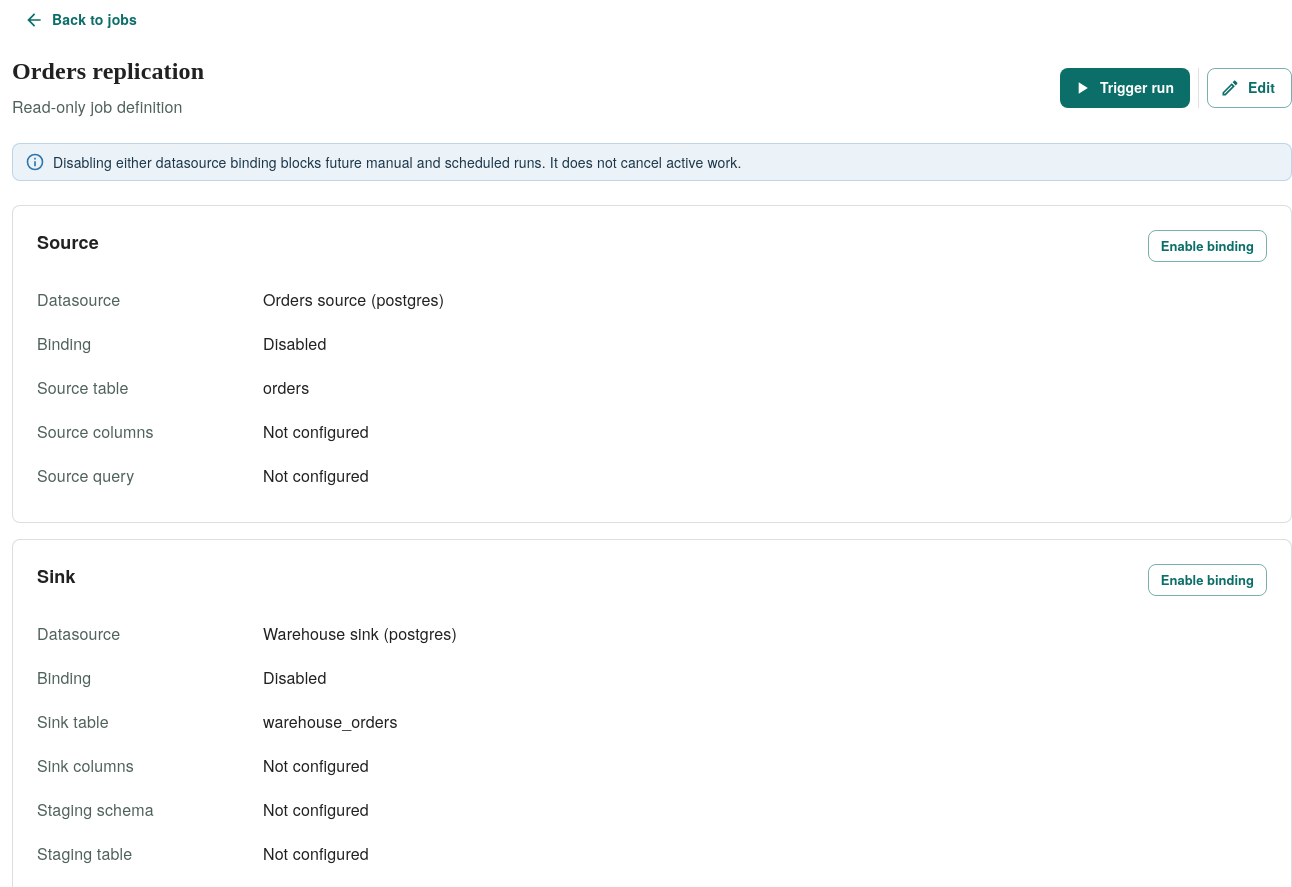
Test case: JobDetailPage › offers re-enable for disabled bindings and surfaces backend authorization errors
Step 1. Click the 1st button "Enable binding" → (1207, 246), box [1148, 230, 1267, 262]
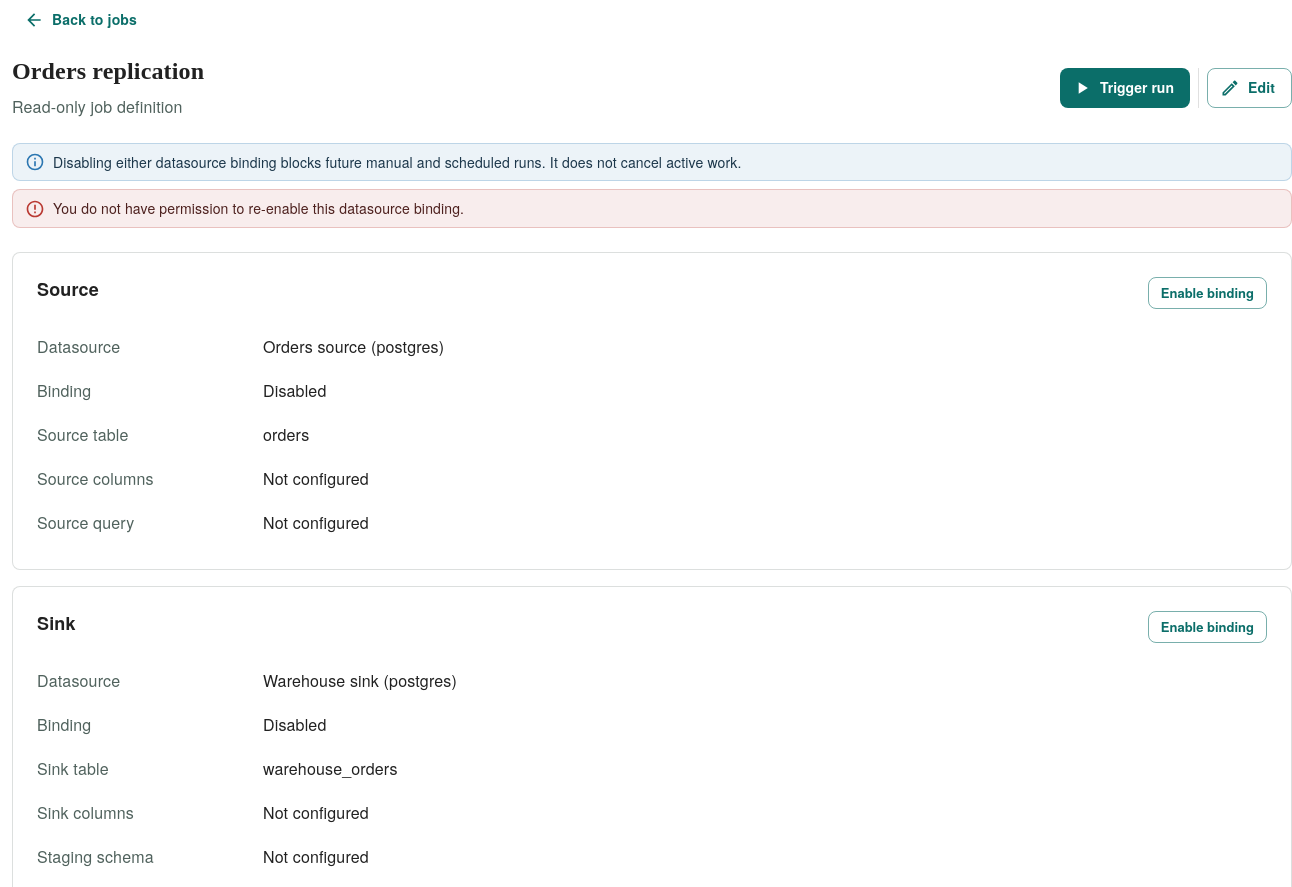
expect the text "You do not have permission to re-enable this datasource binding." is shown: met, box [53, 198, 464, 219]
